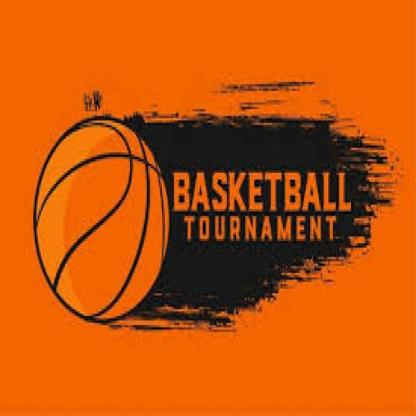basketball: (33, 118, 171, 325)
